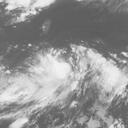cyclone: (36, 50, 108, 97)
